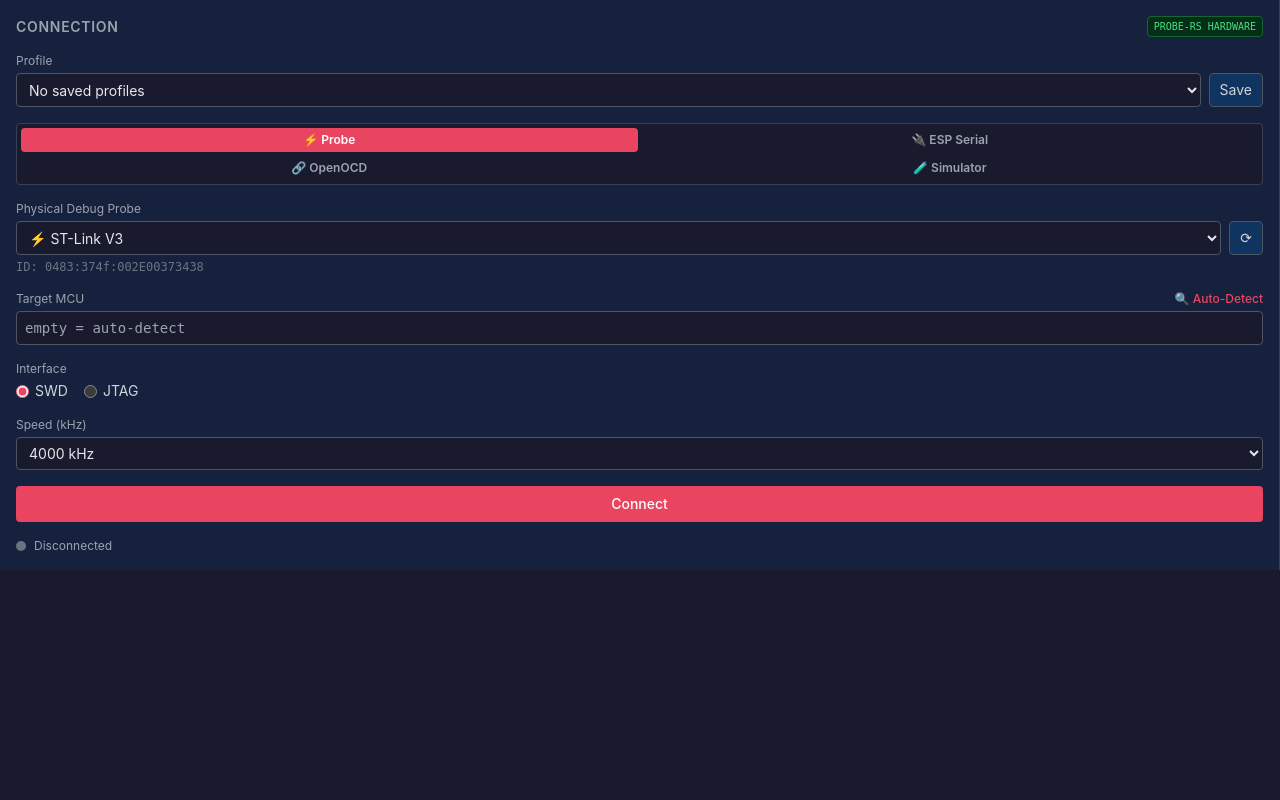
Test case: ConnectionPanel transports › replaces them with a baud rate for a serial bootloader
The width and height of the screenshot is (1280, 800).
Click the button "🔌 ESP Serial": (950, 140) [642, 128, 1258, 152]
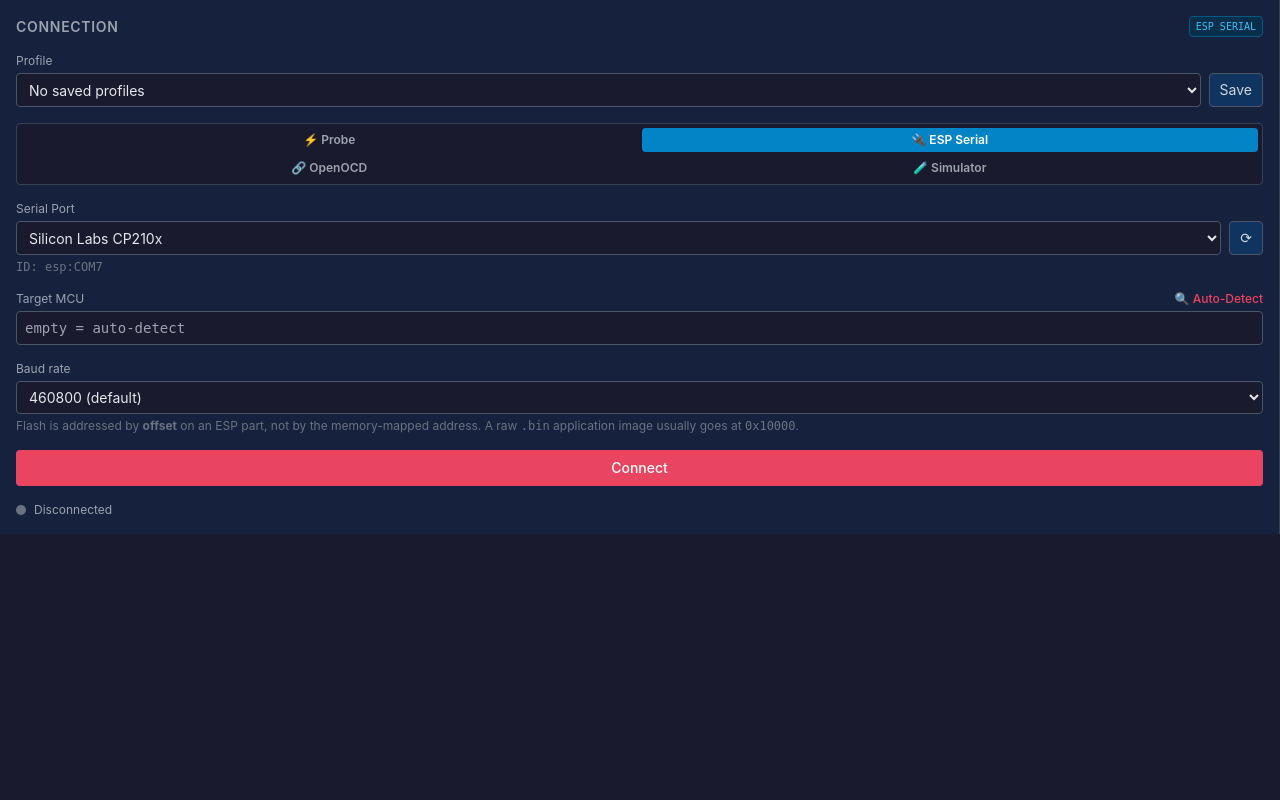
expect the label "SWD" is gone: met
expect the text "Speed (kHz)" is gone: met
expect the text "Baud rate" is shown: met, box [16, 361, 70, 376]
